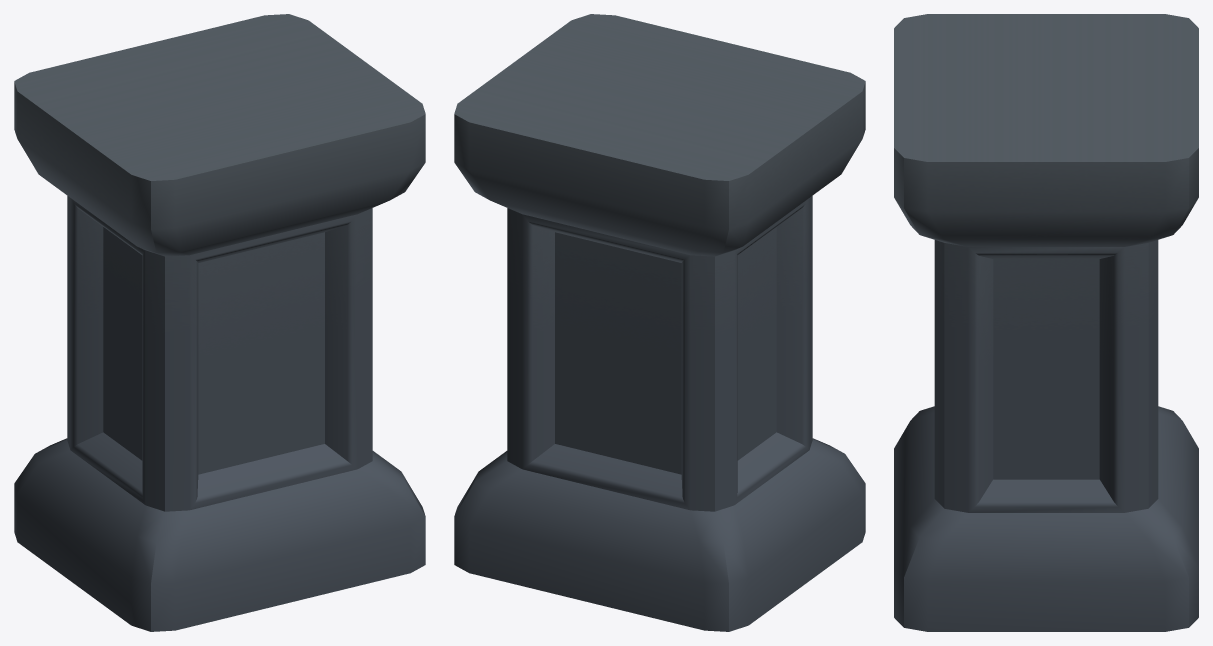
The model's file is Pillar.fbx.
3 renders of one model, left to right at view 1: azimuth 30°, elevation 25°; view 2: azimuth 150°, elevation 25°; view 3: azimuth 270°, elevation 25°, orthographic. The views are drawn at different scales.
Visible parts, largest first — view 1: Pillar; view 2: Pillar; view 3: Pillar.
Boxes of the visible parts, x1,y1,x2,y2 form: Pillar: [14, 14, 425, 631]; Pillar: [454, 14, 865, 631]; Pillar: [894, 14, 1198, 631].
Size of the model in its own units: 1.12 by 1.66 by 0.9734.
